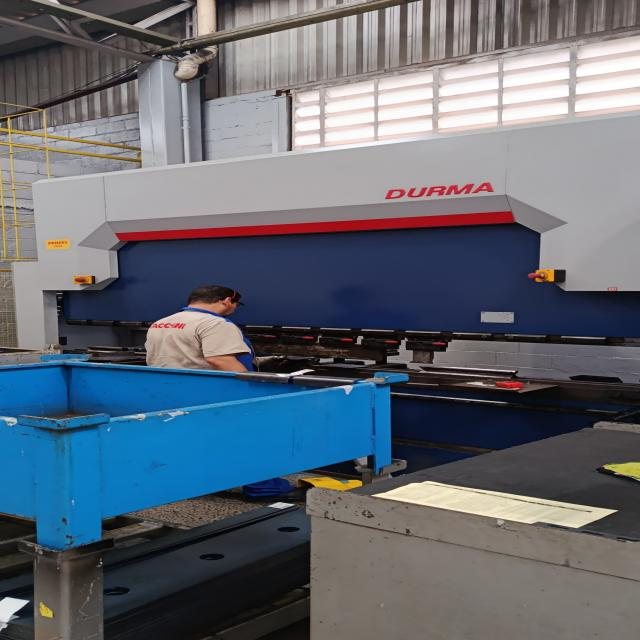oculos-epi: (230, 300, 245, 309)
